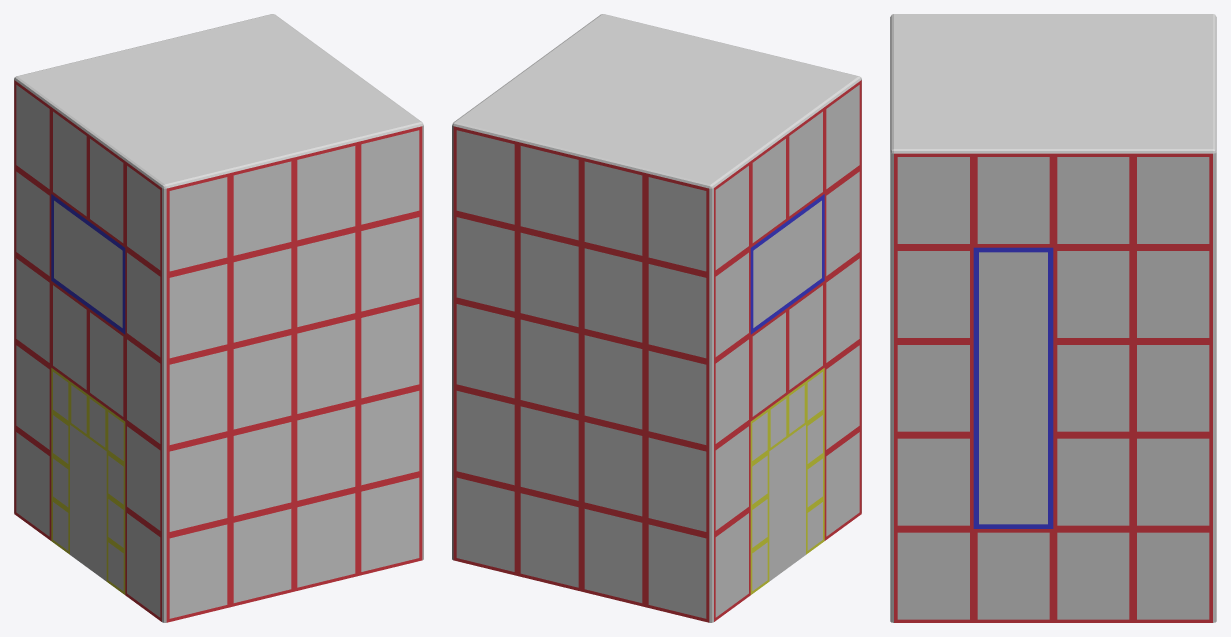
The model's file is sega.fbx.
3 renders of one model, left to right at view 1: azimuth 30°, elevation 25°; view 2: azimuth 150°, elevation 25°; view 3: azimuth 270°, elevation 25°, orthographic. The views are drawn at different scales.
Parts seen in each view (by area): view 1: Cube; view 2: Cube; view 3: Cube.
Boxes of the visible parts, x1,y1,x2,y2 form: Cube: (14, 14, 423, 622); Cube: (452, 14, 861, 622); Cube: (890, 14, 1216, 622).
Bounding box in the file's own units: 6 × 6 × 9.59.
